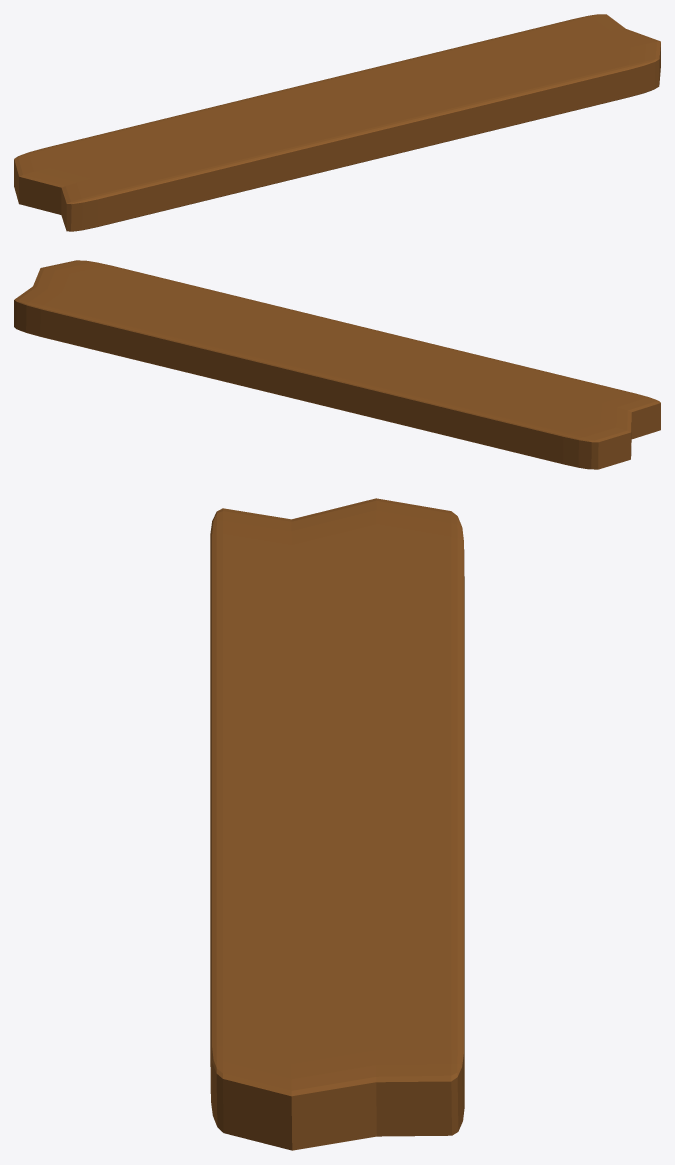
The model's file is tabuas.fbx.
The picture shows the model from 3 angles, top to bottom: view 1: azimuth 30°, elevation 25°; view 2: azimuth 150°, elevation 25°; view 3: azimuth 270°, elevation 25°; orthographic projection. The views are drawn at different scales.
Parts seen in each view (by area): view 1: Cube; view 2: Cube; view 3: Cube.
Boxes of the visible parts, left/top/right/bottom form: Cube: left=14, top=14, right=660, bottom=231; Cube: left=14, top=260, right=660, bottom=469; Cube: left=210, top=498, right=464, bottom=1150.
Size of the model in its own units: 1113 by 54.45 by 201.
